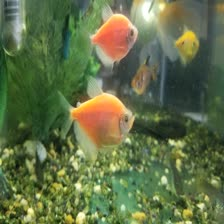Plano: (50, 87, 133, 160), (80, 5, 138, 63), (176, 25, 212, 65)
Transparente: (130, 57, 161, 96)
